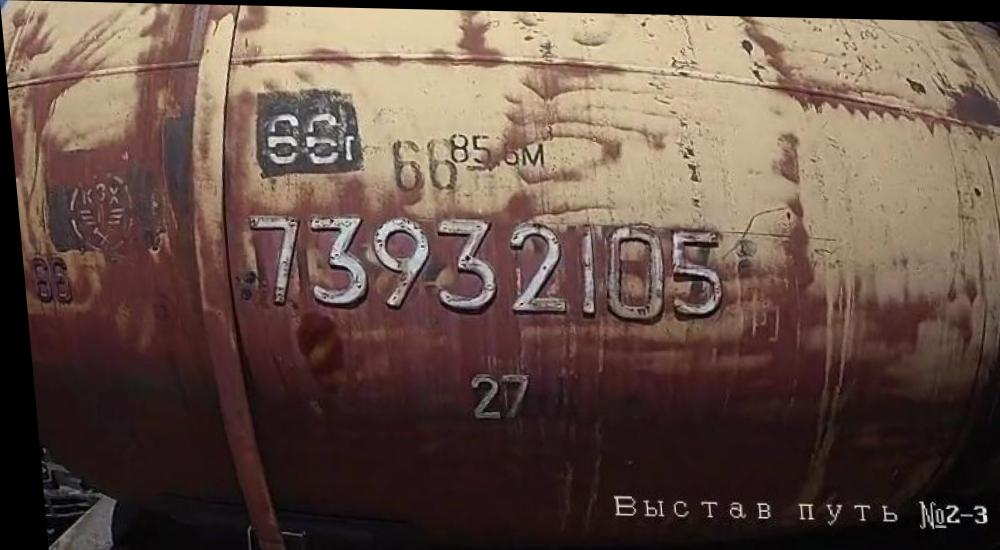Wagon-number: (238, 207, 724, 320)
